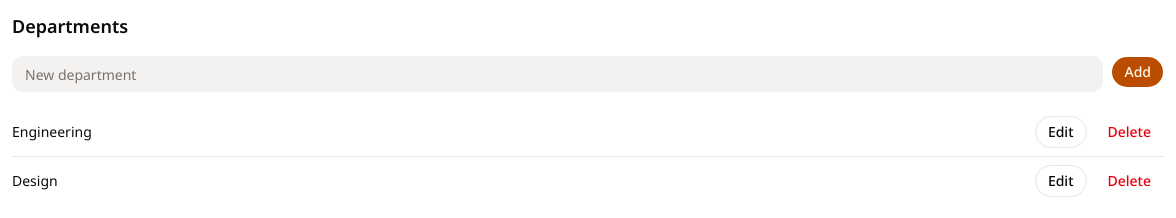
Test case: DepartmentManager › shows an inline edit input when edit is clicked
Click the button "Edit" in the row of "Engineering". click: {"x": 1061, "y": 132}
box: left=1035, top=116, right=1086, bottom=148
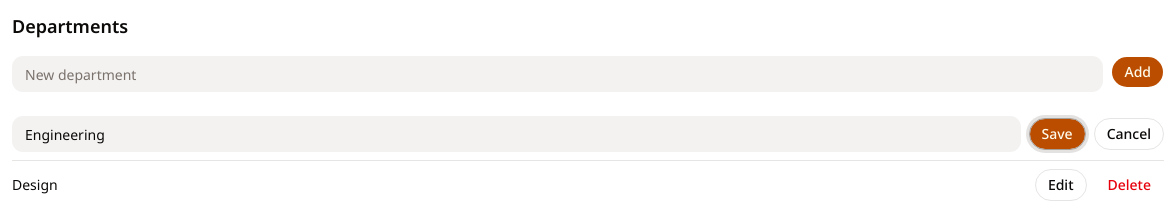
Now the field showing "Engineering" is shown, box left=12, top=116, right=1020, bottom=152
